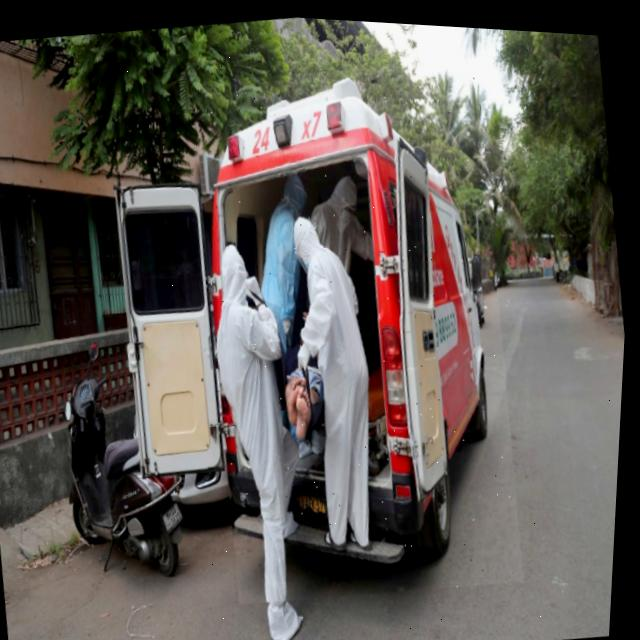Ambulance: (173, 40, 551, 615)
